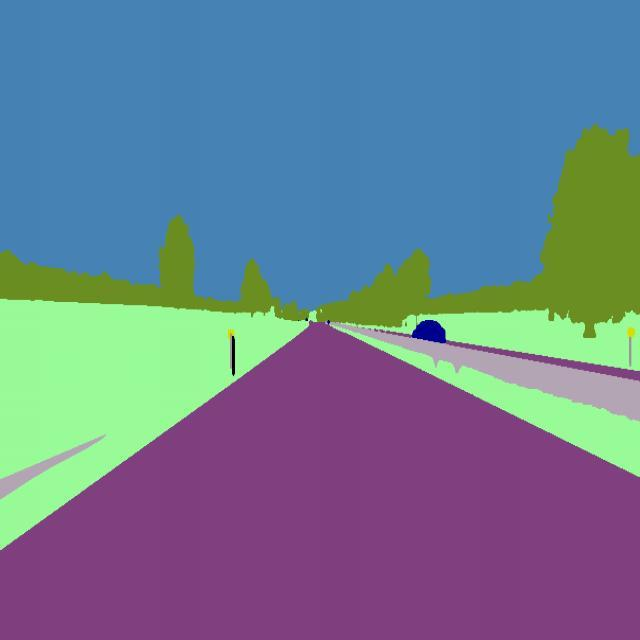safe: (408, 312, 448, 348), (326, 318, 334, 331)
